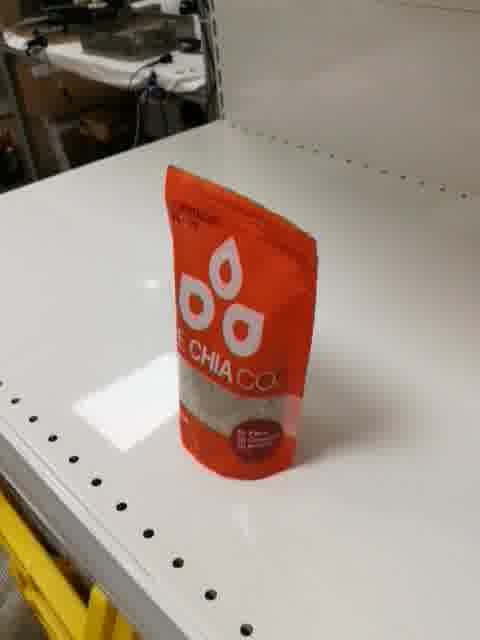whitechia: (160, 159, 321, 483)
